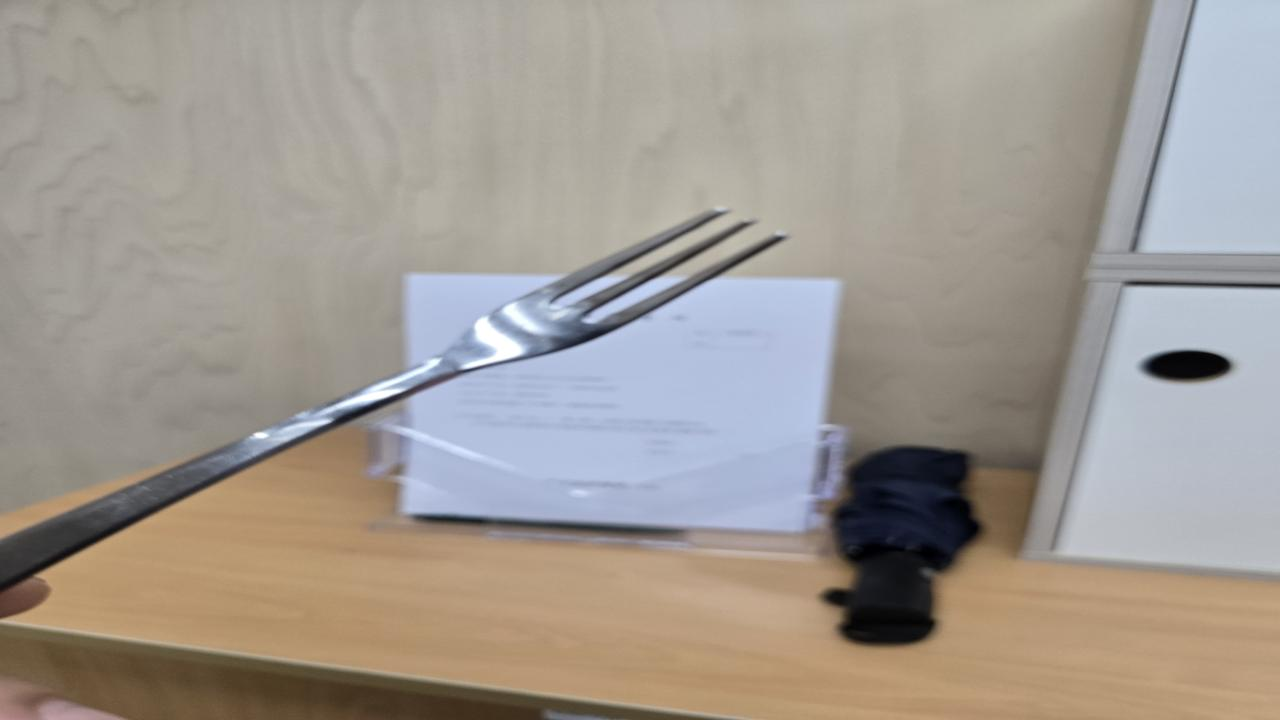fork: (0, 205, 792, 584)
